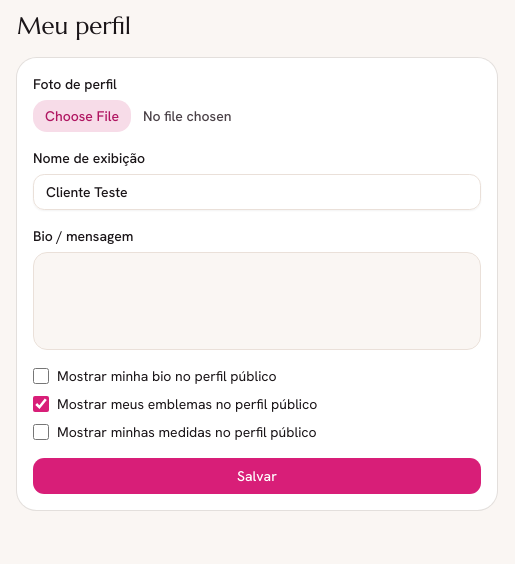
Test case: PerfilPage › mostra erro se a action falhar, sem dar refresh
What coordinates should you click on to do the following:
click the button "Salvar"
I would click on:
 (257, 476)
Its box is [33, 458, 481, 494].
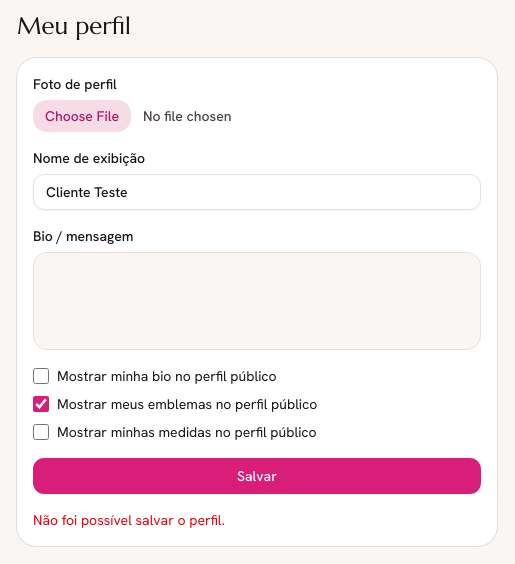
Expected: the message shows "Não foi possível salvar", [33, 511, 225, 529]
